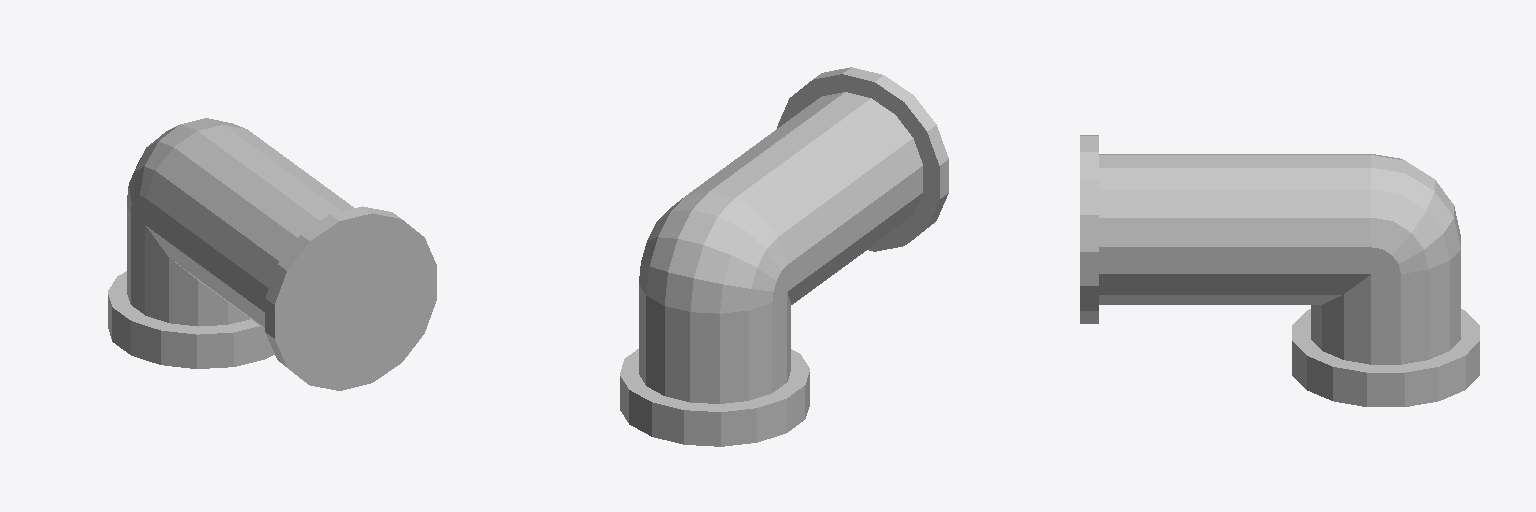
The model's file is pipeworks_spigot.obj.
3 views of the same model, side by side, from view 1: azimuth 30°, elevation 25°; view 2: azimuth 150°, elevation 25°; view 3: azimuth 270°, elevation 25° (orthographic).
Visible parts, largest first — view 1: pipe.001_Cylinder.000; view 2: pipe.001_Cylinder.000; view 3: pipe.001_Cylinder.000.
Part boxes in pixels (x1,y1,x2,y2): pipe.001_Cylinder.000: (108, 118, 436, 390); pipe.001_Cylinder.000: (620, 67, 948, 446); pipe.001_Cylinder.000: (1080, 135, 1479, 406).
Bounding box in the file's own units: 0.3065 × 0.4032 × 0.6532.